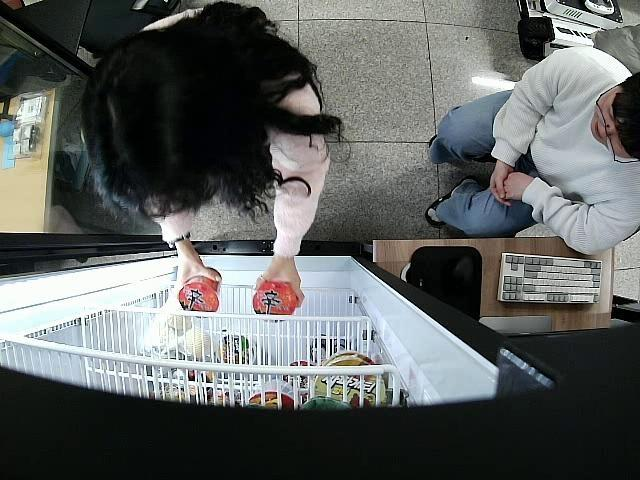02_shinRamen_S: (178, 266, 222, 317), (254, 280, 298, 323)
